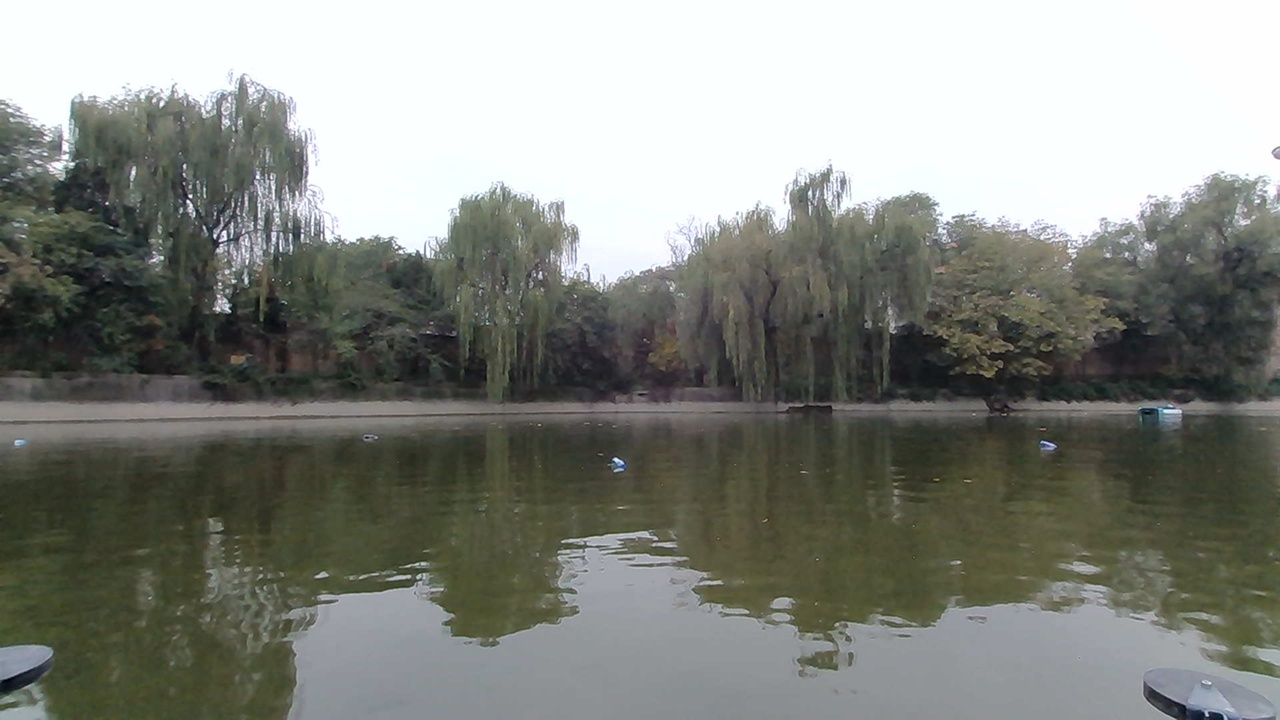bottle: (585, 449, 630, 476), (5, 432, 41, 464), (370, 423, 403, 446), (1034, 433, 1065, 457)
